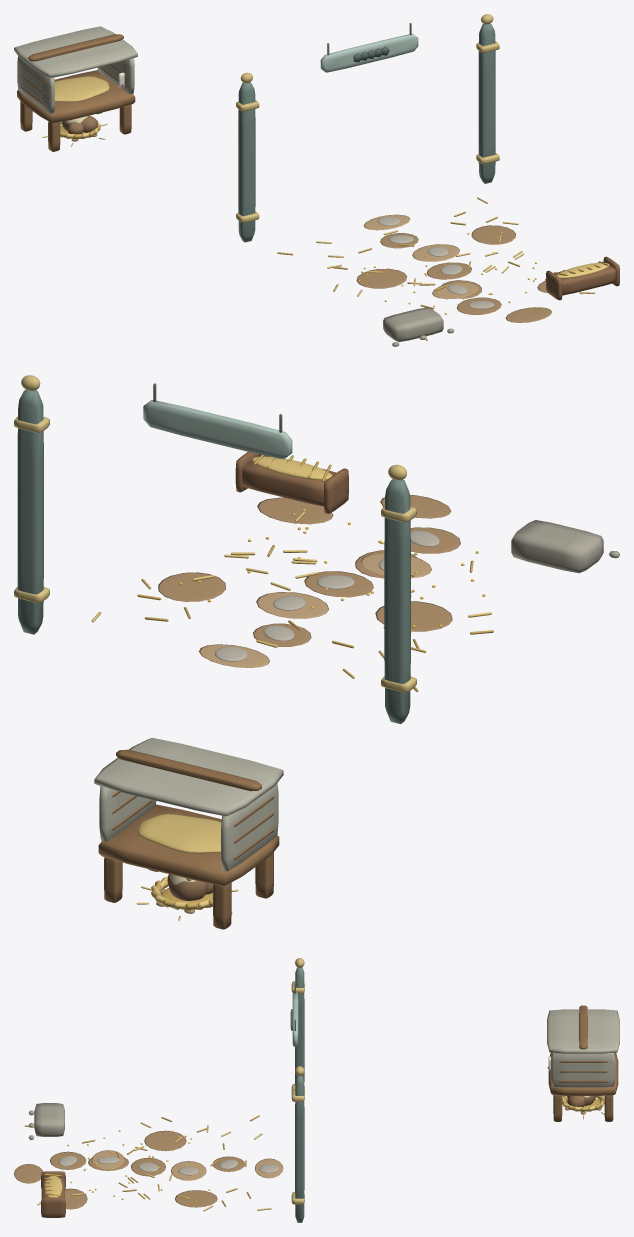
File: granja_patio.glb
3 renders of one model, top to bottom at view 1: azimuth 30°, elevation 25°; view 2: azimuth 150°, elevation 25°; view 3: azimuth 270°, elevation 25°, orthographic. The views are drawn at different scales.
Visible parts, largest first — view 1: techo, pilar 0.25, pilar 3.75, cajon, letrero, bebedero, lado -0.58, heno, comedero, mancha 3, cresta, mancha 0 (+5 smaller); view 2: techo, pilar 0.25, pilar 3.75, cajon, letrero, bebedero, lado -0.58, heno, comedero, cresta, lado 0.58, mancha 0 (+11 smaller); view 3: techo, lado 0.58, pilar 3.75, bebedero, cajon, pilar 0.25, mancha 3, mancha 0, pata comedero 3.62, mancha 4, tierra camino 2, tierra camino 5 (+4 smaller).
Boxes of the visible parts, <box> form: techo: <box>14,26,137,77</box>; pilar 0.25: <box>238,82,255,242</box>; pilar 3.75: <box>478,23,495,183</box>; cajon: <box>17,70,135,123</box>; letrero: <box>320,33,418,72</box>; bebedero: <box>383,307,443,341</box>; lado -0.58: <box>17,56,54,113</box>; heno: <box>54,76,109,102</box>; comedero: <box>554,261,615,295</box>; mancha 3: <box>356,268,407,288</box>; cresta: <box>28,34,123,61</box>; mancha 0: <box>471,225,515,244</box>; techo: <box>94,737,283,816</box>; pilar 0.25: <box>384,479,410,723</box>; pilar 3.75: <box>17,389,43,634</box>; cajon: <box>98,804,279,886</box>; letrero: <box>143,400,292,459</box>; bebedero: <box>511,520,603,573</box>; lado -0.58: <box>221,783,278,871</box>; heno: <box>137,814,221,853</box>; comedero: <box>242,454,336,506</box>; cresta: <box>116,749,261,791</box>; lado 0.58: <box>99,786,156,841</box>; mancha 0: <box>158,572,225,601</box>; techo: <box>547,1009,619,1053</box>; lado 0.58: <box>551,1053,615,1087</box>; pilar 3.75: <box>295,1075,304,1222</box>; bebedero: <box>34,1103,64,1136</box>; cajon: <box>548,1052,618,1095</box>; pilar 0.25: <box>295,967,304,1084</box>; mancha 3: <box>144,1130,186,1151</box>; mancha 0: <box>175,1190,217,1207</box>; pata comedero 3.62: <box>41,1197,65,1217</box>; mancha 4: <box>14,1164,42,1183</box>; tierra camino 2: <box>171,1161,206,1180</box>; tierra camino 5: <box>50,1151,86,1169</box>.
Size of the model in its own units: 4.56 by 2.52 by 8.29.
